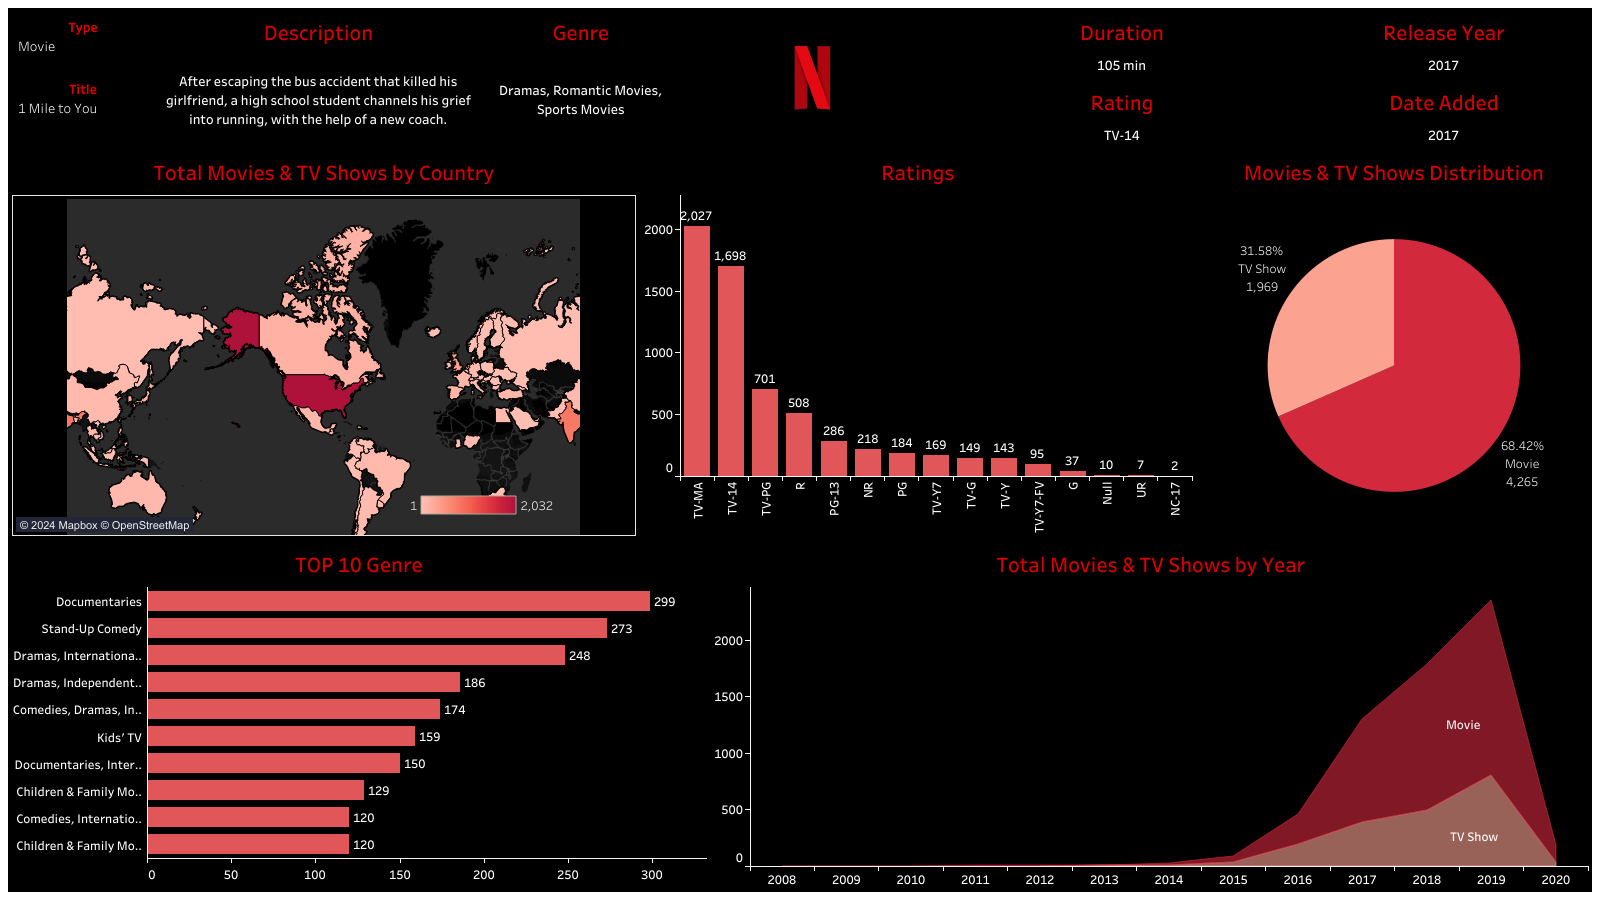

The page's visual inventory and layout, read from the dashboard file:
{"tool":"tableau","page":{"name":"Dashboard 1","canvas":[1600,900],"ordinal":0},"visuals":[{"type":"filter","title":"Description","param":"[federated.1owqirg11f4dpi10xolmc01gyi1w].[none:type:nk]","box":[8,8,150,62]},{"type":"worksheet","title":"Description","mark":"Automatic","box":[158,8,321,140]},{"type":"worksheet","title":"Genre","mark":"Automatic","box":[479,8,204,140]},{"type":"image","param":"Image/BrandAssets_Logos_02-NSymbol__1_-removebg-preview.png","box":[683,8,265,140]},{"type":"worksheet","title":"Duration","mark":"Automatic","box":[948,8,348,70]},{"type":"worksheet","title":"Release Year","mark":"Automatic","box":[1296,8,296,70]},{"type":"filter","title":"Description","param":"[federated.1owqirg11f4dpi10xolmc01gyi1w].[none:title:nk]","box":[8,70,150,78]},{"type":"worksheet","title":"Rating","mark":"Automatic","box":[948,78,348,70]},{"type":"worksheet","title":"Date Added","mark":"Automatic","box":[1296,78,296,70]},{"type":"worksheet","title":"Total Movies & TV Shows by Country","mark":"Multipolygon","box":[8,148,631.8,392]},{"type":"worksheet","title":"Ratings","mark":"Automatic","rows":["show_id"],"cols":["rating"],"box":[639.8,148,556.2,392]},{"type":"worksheet","title":"Movies and TV Shows Distribution","mark":"Pie","box":[1195.9,148,396.1,392]},{"type":"legend","title":"Total Movies & TV Shows by Country","param":"[federated.1owqirg11f4dpi10xolmc01gyi1w].[ctd:show_id:qk]","box":[406,492,152,41]},{"type":"worksheet","title":"Top 10","mark":"Automatic","rows":["listed_in"],"cols":["show_id"],"box":[8,540,702,352]},{"type":"worksheet","title":"Total Movies & TV Shows by Year","mark":"Area","rows":["show_id"],"cols":["date_added"],"box":[710,540,882,352]}]}

Visuals, with their boxes in screenshot pixels (x1, y1, x2, y2), scaled from the page's 1600x900 canvas onto the 1600x900 screenshot:
"Description" filter: {"left": 8, "top": 8, "right": 158, "bottom": 70}
"Description" worksheet: {"left": 158, "top": 8, "right": 479, "bottom": 148}
"Genre" worksheet: {"left": 479, "top": 8, "right": 683, "bottom": 148}
image: {"left": 683, "top": 8, "right": 948, "bottom": 148}
"Duration" worksheet: {"left": 948, "top": 8, "right": 1296, "bottom": 78}
"Release Year" worksheet: {"left": 1296, "top": 8, "right": 1592, "bottom": 78}
"Description" filter: {"left": 8, "top": 70, "right": 158, "bottom": 148}
"Rating" worksheet: {"left": 948, "top": 78, "right": 1296, "bottom": 148}
"Date Added" worksheet: {"left": 1296, "top": 78, "right": 1592, "bottom": 148}
"Total Movies & TV Shows by Country" worksheet (Multipolygon marks): {"left": 8, "top": 148, "right": 640, "bottom": 540}
"Ratings" worksheet: {"left": 640, "top": 148, "right": 1196, "bottom": 540}
"Movies and TV Shows Distribution" worksheet (Pie marks): {"left": 1196, "top": 148, "right": 1592, "bottom": 540}
"Total Movies & TV Shows by Country" legend: {"left": 406, "top": 492, "right": 558, "bottom": 533}
"Top 10" worksheet: {"left": 8, "top": 540, "right": 710, "bottom": 892}
"Total Movies & TV Shows by Year" worksheet (Area marks): {"left": 710, "top": 540, "right": 1592, "bottom": 892}
